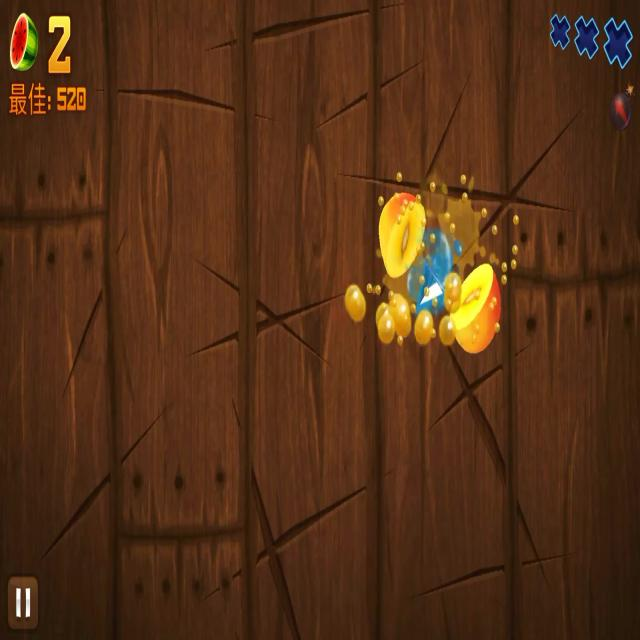fruit: (375, 188, 433, 282), (452, 264, 502, 356)
